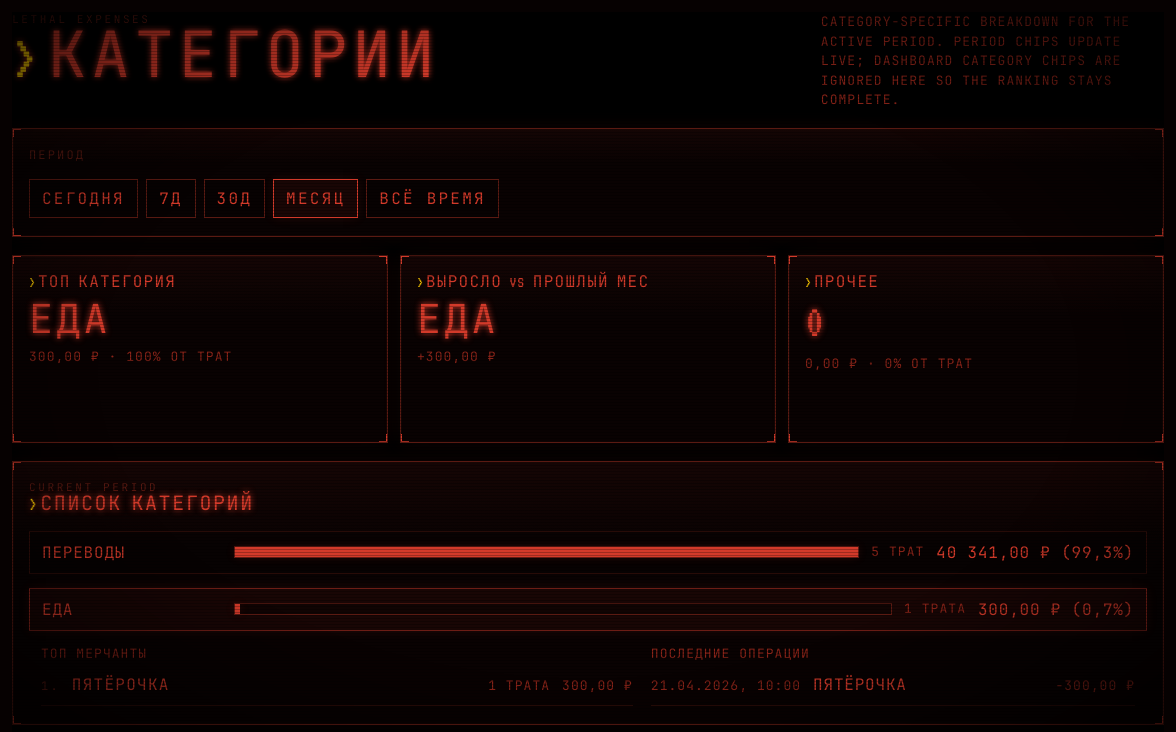
Test: CategoriesPage › renders cleaned transfer merchants when transfers are visible
The image size is (1176, 732).
Click the button "Переводы 5 трат 40 341,00 ₽ (99,3%)" at point(588, 552), box [29,530,1147,574]
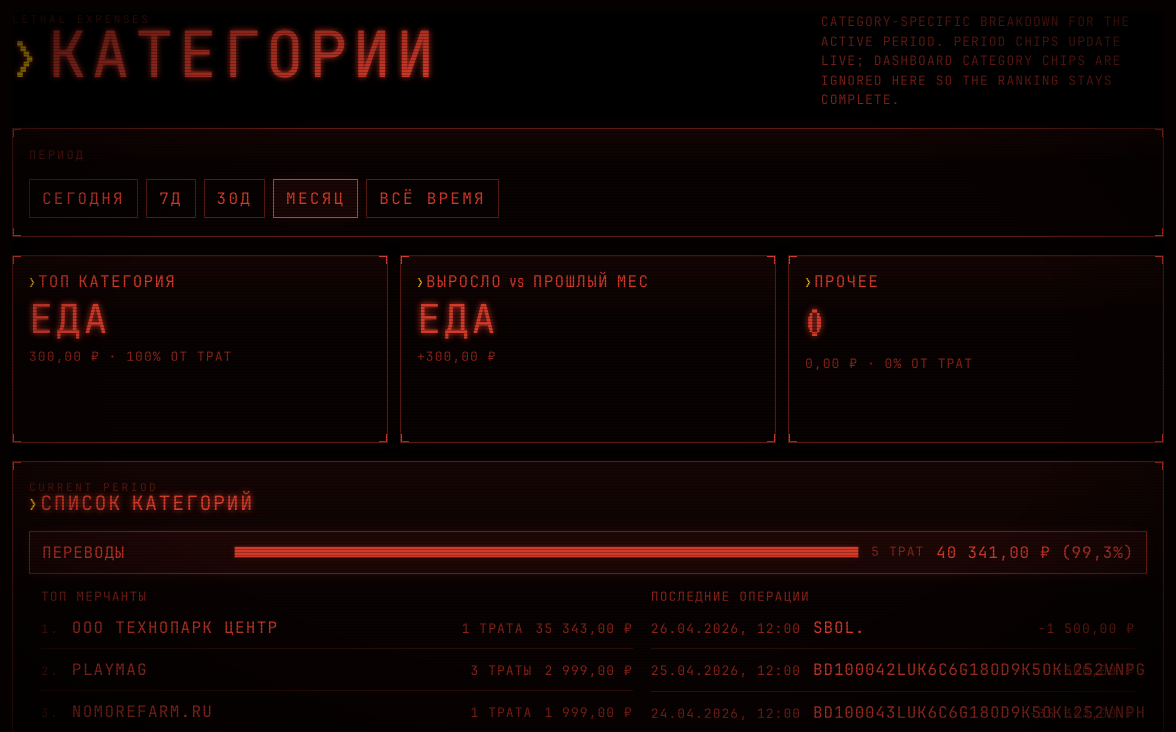
Check: the list with class "categories-page__merchant-list" shows "PLAYMAG", box [72,658,148,680]
Check: the list with class "categories-page__merchant-list" shows "3 траты", box [41,616,633,731]
Check: the list with class "categories-page__merchant-list" shows "ООО ТЕХНОПАРК ЦЕНТР", box [72,616,278,638]
